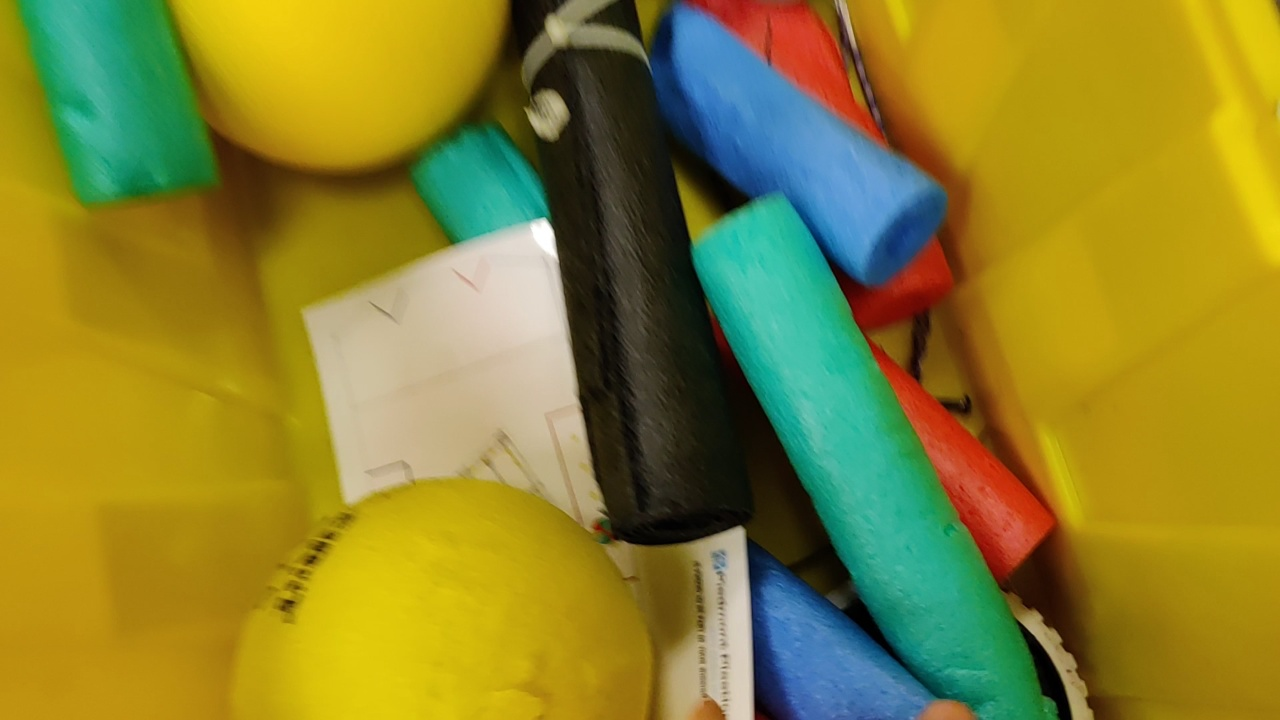Ball: (229, 480, 663, 719)
